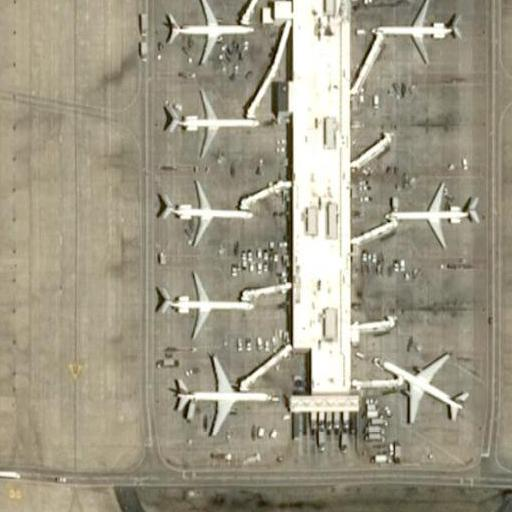Aircraft: (171, 347, 273, 436), (379, 171, 483, 245), (375, 346, 472, 424), (160, 84, 260, 157), (153, 174, 256, 243), (152, 264, 251, 334), (157, 0, 254, 65), (369, 0, 458, 66)
